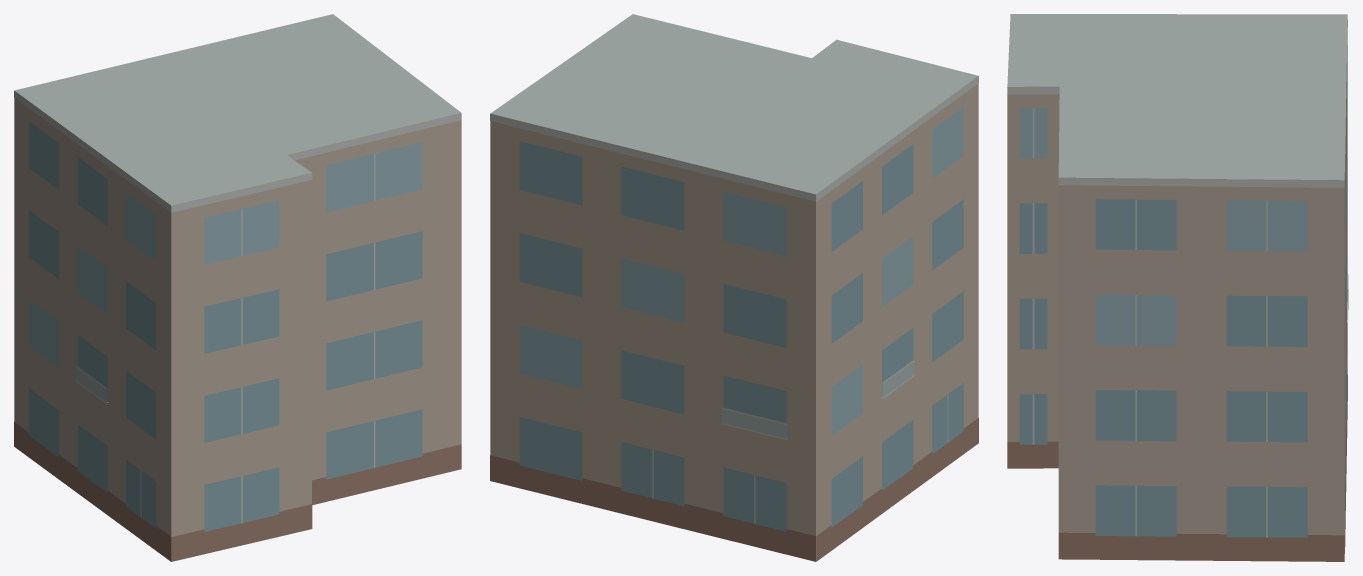
Rendered from survey-upis-32970227.glb.
The picture shows the model from 3 angles, left to right: view 1: azimuth 30°, elevation 25°; view 2: azimuth 150°, elevation 25°; view 3: azimuth 270°, elevation 25°; orthographic projection. The views are drawn at different scales.
Parts seen in each view (by area): view 1: survey-upis-32970227.tmp; view 2: survey-upis-32970227.tmp; view 3: survey-upis-32970227.tmp.
Part boxes in pixels (x1,y1,x2,y2): survey-upis-32970227.tmp: (14,14,461,561); survey-upis-32970227.tmp: (490,14,978,561); survey-upis-32970227.tmp: (1007,14,1348,561).
Size of the model in its own units: 11.43 by 12.2 by 9.9.
